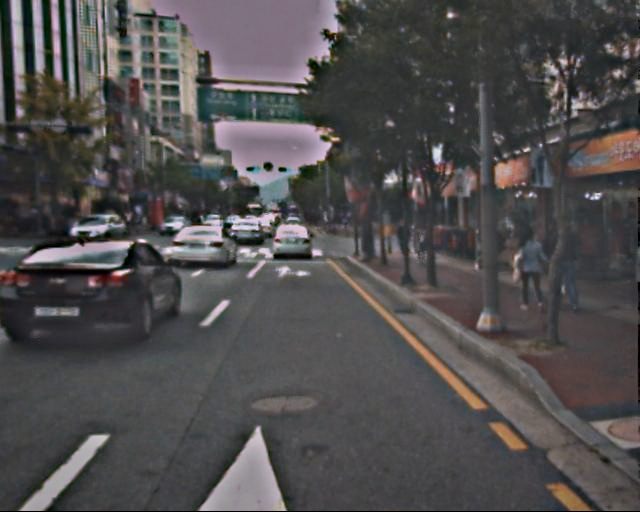person: (541, 215, 582, 315), (512, 228, 546, 311), (412, 222, 430, 266)
